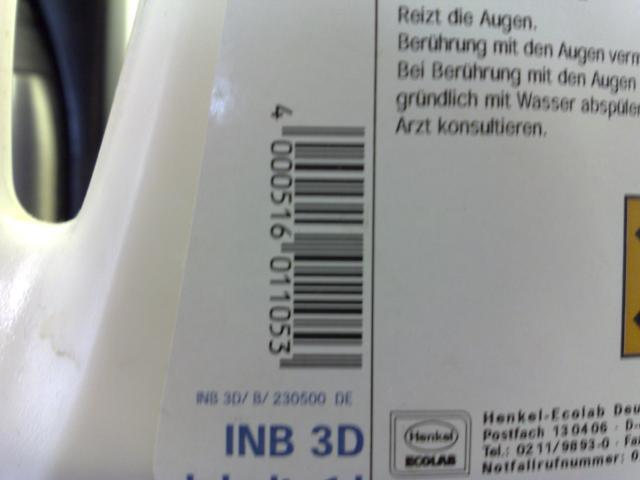Barkod: (291, 122, 365, 371)
